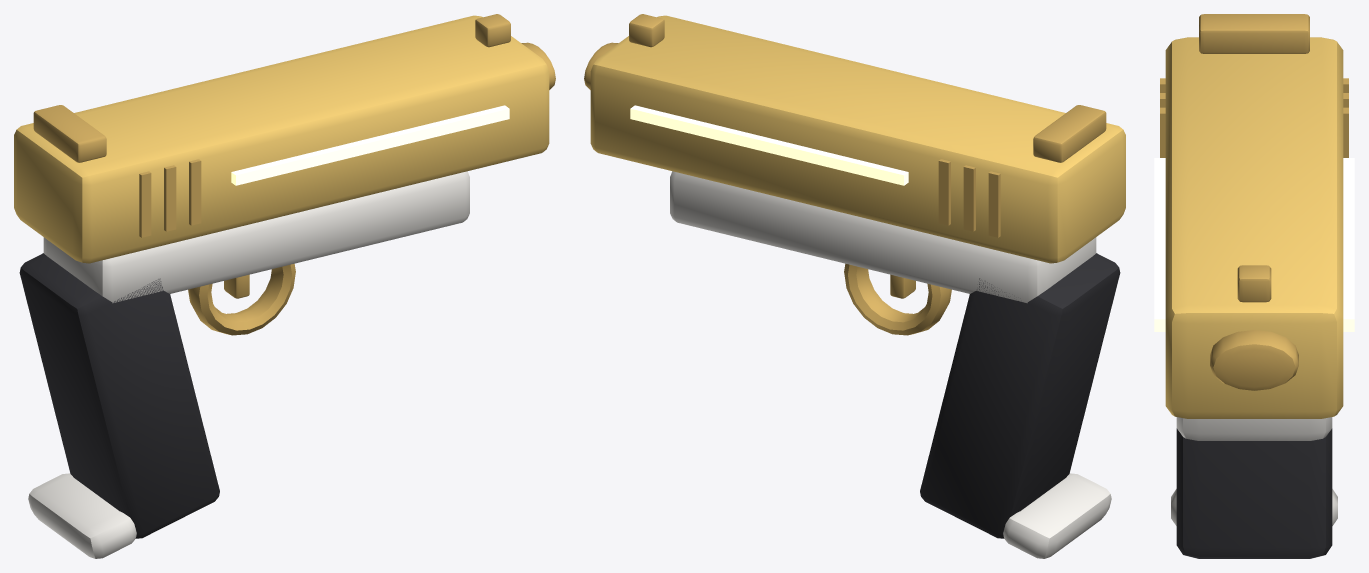
File: SGP_Pistol_Gilded.glb
3 renders of one model, left to right at view 1: azimuth 30°, elevation 25°; view 2: azimuth 150°, elevation 25°; view 3: azimuth 270°, elevation 25°, orthographic. The views are drawn at different scales.
Visible parts, largest first — view 1: SGP_Pistol_Gilded; view 2: SGP_Pistol_Gilded; view 3: SGP_Pistol_Gilded.
Boxes of the visible parts, bbox=[...] form: SGP_Pistol_Gilded: bbox=[14, 14, 555, 558]; SGP_Pistol_Gilded: bbox=[584, 14, 1125, 558]; SGP_Pistol_Gilded: bbox=[1154, 14, 1354, 558].
Size of the model in its own units: 0.199 by 0.1593 by 0.0576.
